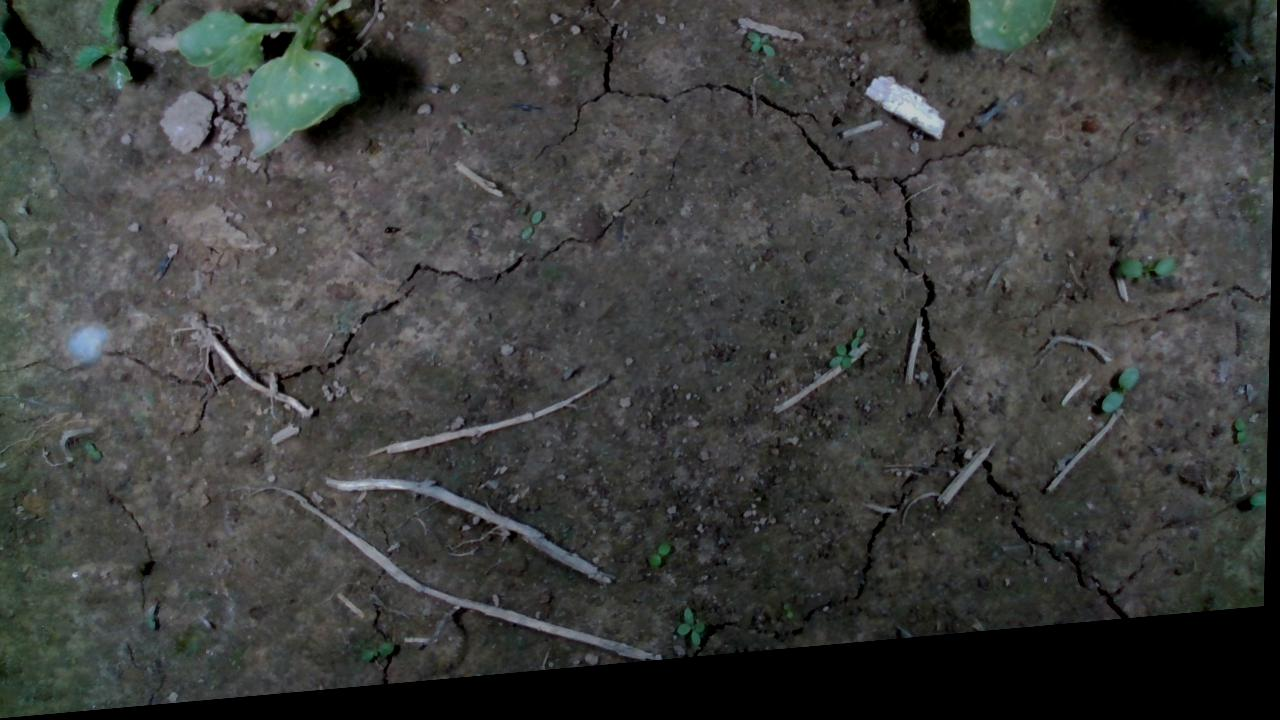weed: (1101, 386, 1138, 435), (1118, 276, 1176, 301), (676, 616, 707, 662), (360, 644, 396, 671), (745, 42, 776, 73), (649, 552, 674, 583), (1236, 438, 1248, 466)
